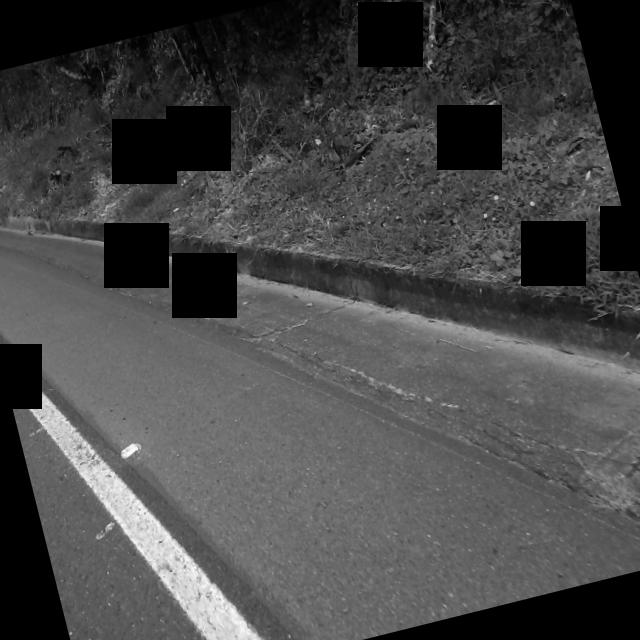DITCH: (0, 32, 640, 640), (0, 66, 640, 640)
